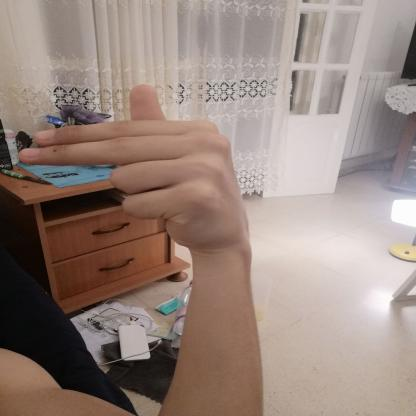GHAYN: (4, 76, 260, 254)
